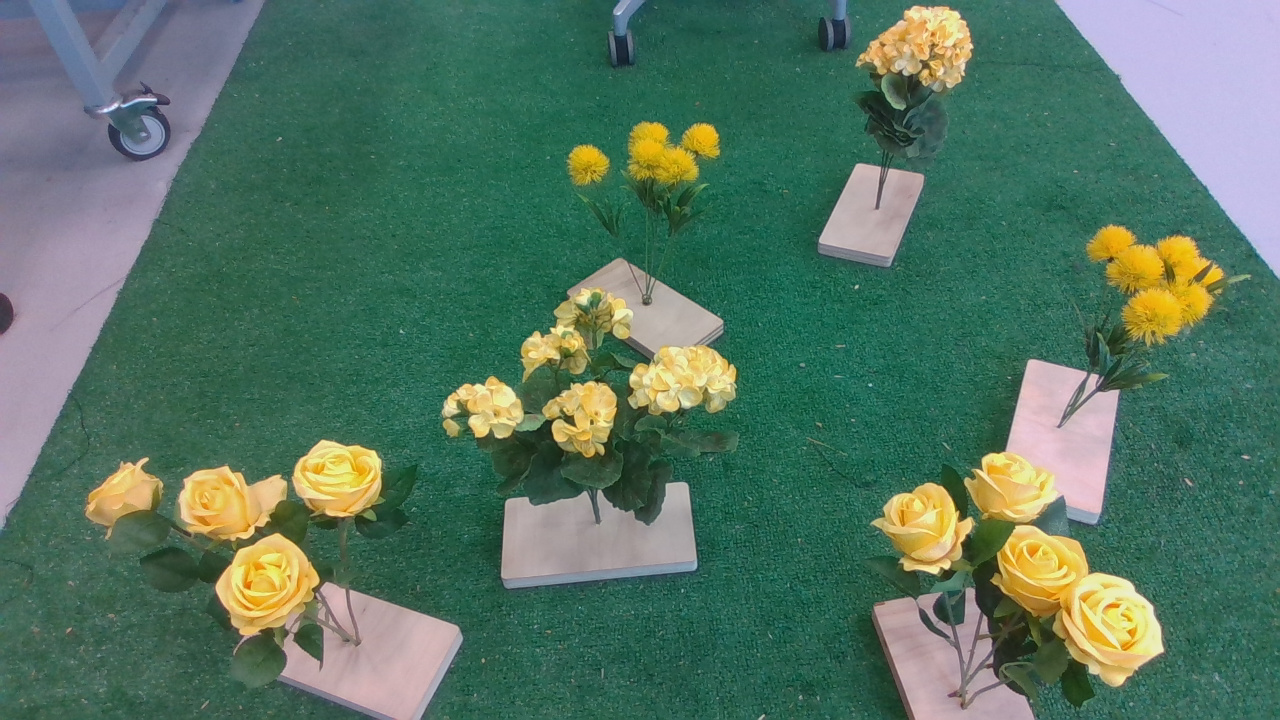dandelion: (1073, 225, 1263, 395), (558, 115, 730, 238)
geranium: (441, 292, 748, 529), (856, 7, 999, 170)
rose: (73, 443, 433, 688), (861, 449, 1174, 719)
